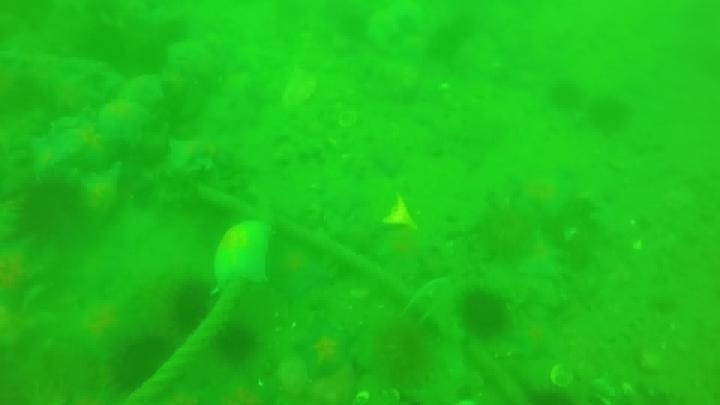echinus: (369, 319, 435, 389), (16, 178, 87, 243), (108, 335, 174, 394), (473, 203, 536, 262), (167, 279, 217, 337), (456, 289, 510, 341), (212, 321, 258, 365), (585, 94, 632, 136), (546, 80, 583, 112)
starfish: (58, 293, 146, 362), (35, 117, 121, 176), (214, 216, 279, 288), (267, 240, 332, 300), (292, 322, 357, 381), (1, 236, 50, 312), (507, 170, 577, 223), (76, 164, 127, 223), (508, 313, 566, 361), (163, 134, 225, 177), (95, 98, 153, 143), (516, 231, 567, 282), (196, 377, 275, 404)
